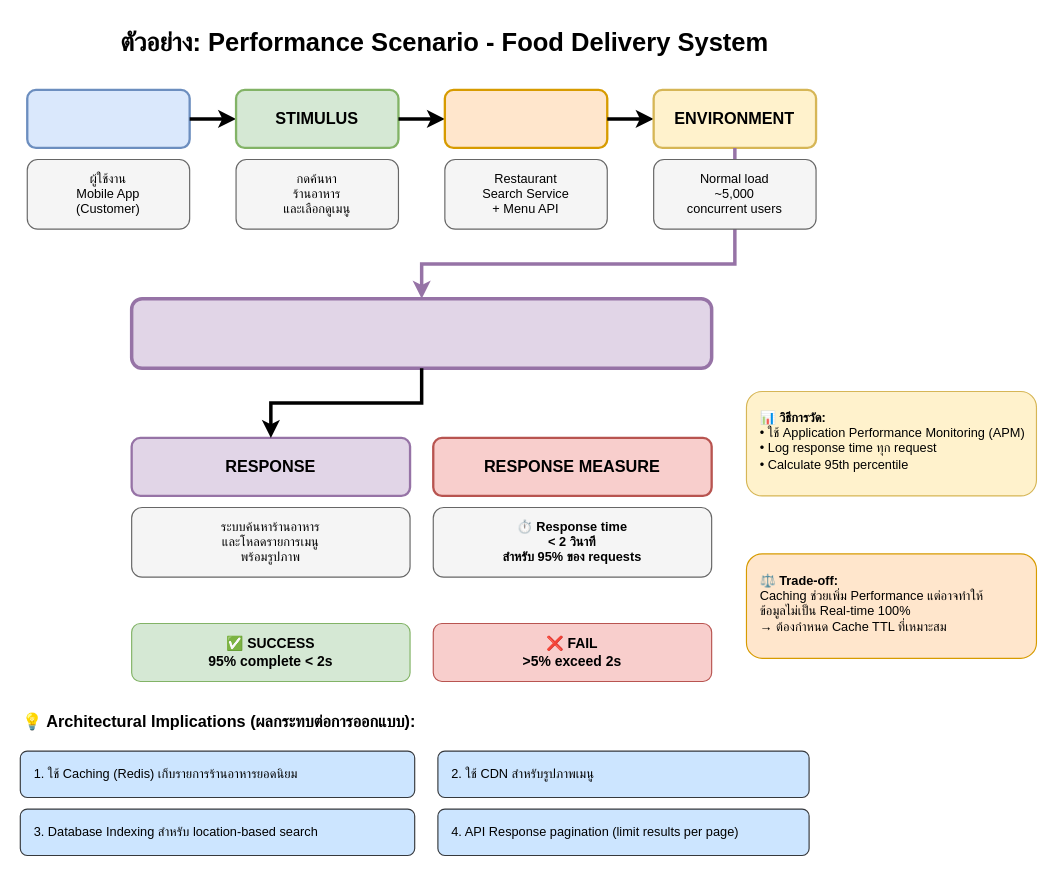
Some shapes in this 1057 by 876 pixel diagram are drawn without their labels. Here are the shapes that lost their labels. From the top down, the box of each, then its label:
(26, 88, 190, 148): SOURCE
(443, 88, 608, 148): ARTIFACT
(129, 296, 713, 369): 🔄 SYSTEM PROCESSING
